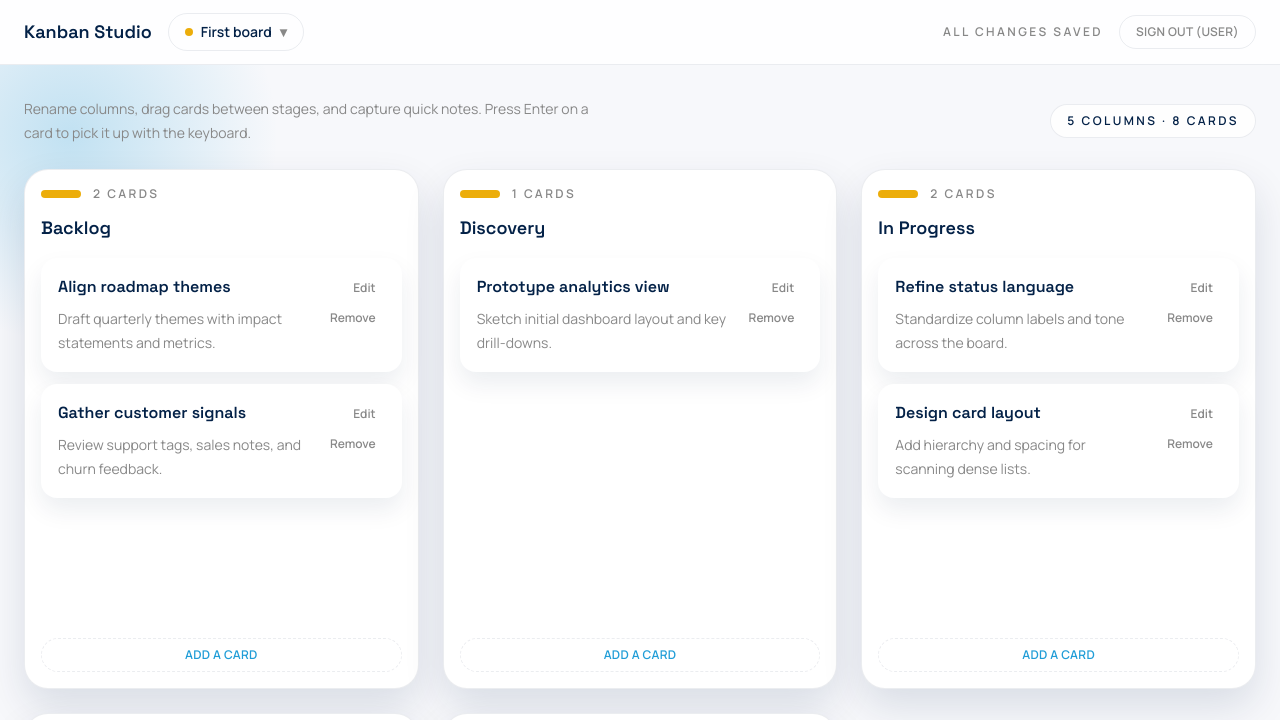
Test case: board persistence › adds a card and sends it in a PUT
The width and height of the screenshot is (1280, 720).
Expected: the heading "Kanban Studio" is shown, [24,18,152,46]
Click the 1st button "Add a card" at (221, 655), box [41,638,402,672]
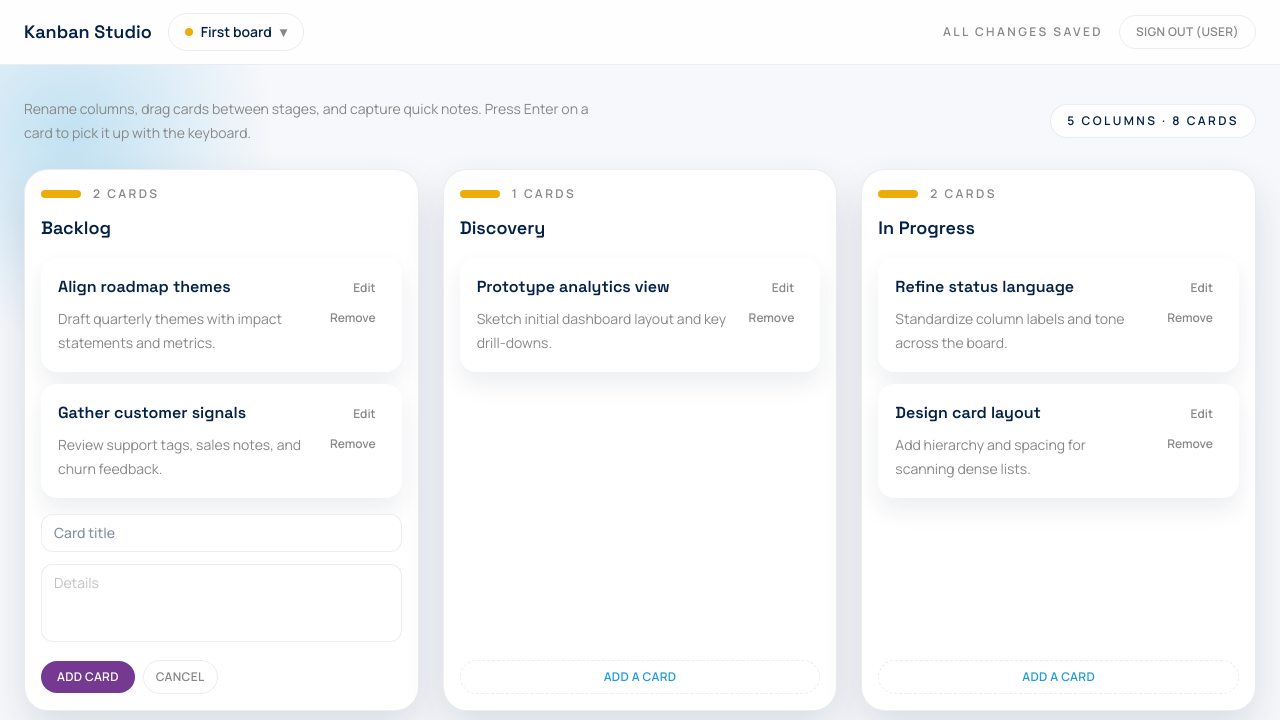
Type "Persisted card" into the field with placeholder "Card title" at (221, 533), box [41,514,402,552]
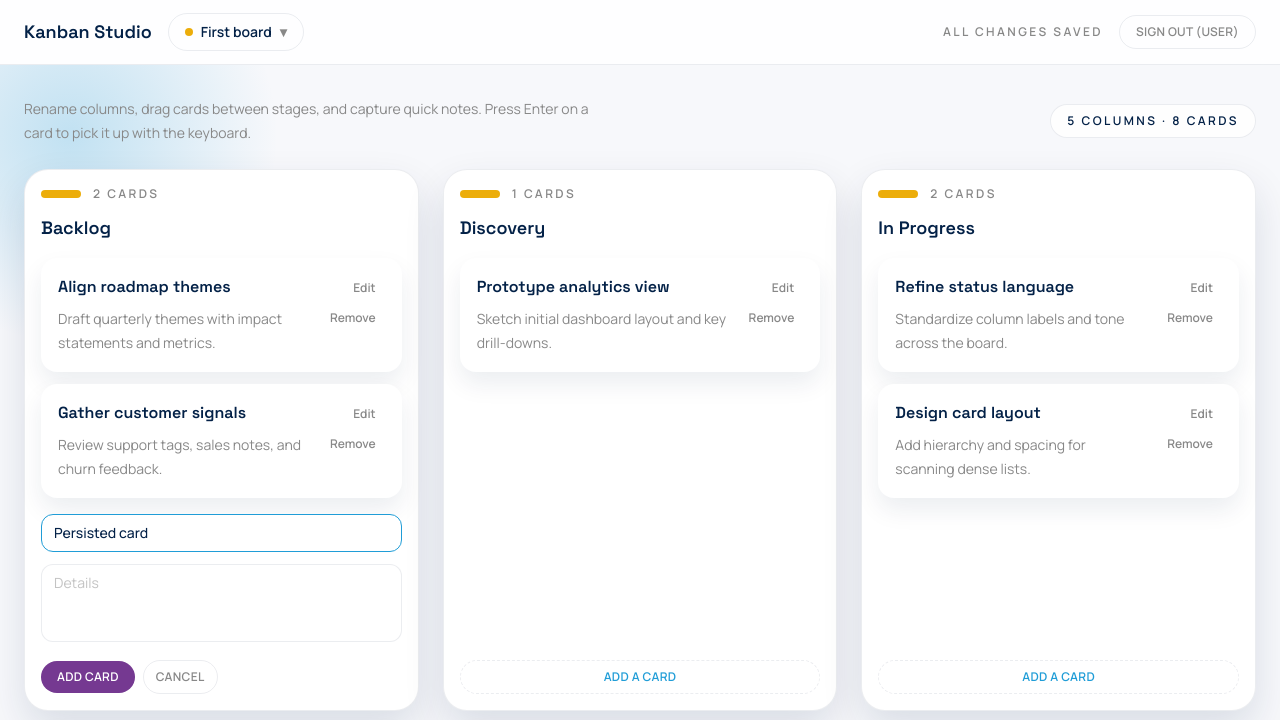
Type "notes" into the text box with placeholder "Details" at (221, 603), box [41,564,402,642]
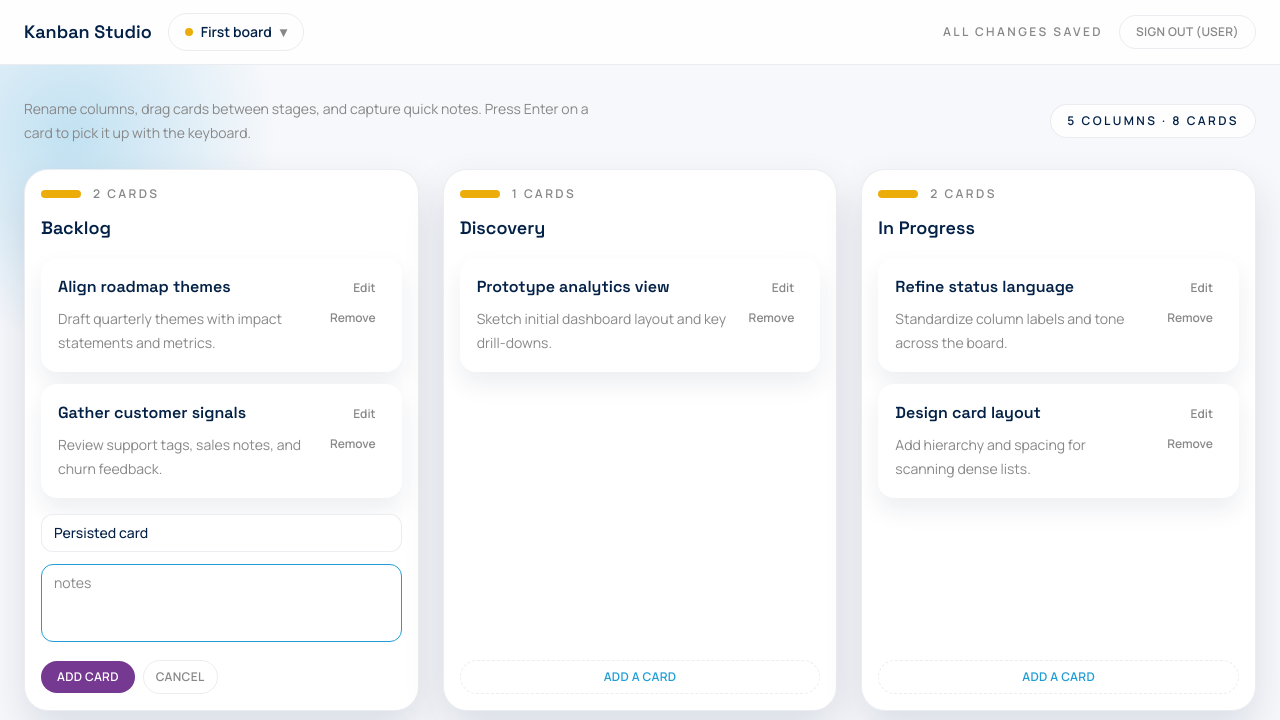
Click the button "Add card" at (88, 677), box [41,661,135,693]
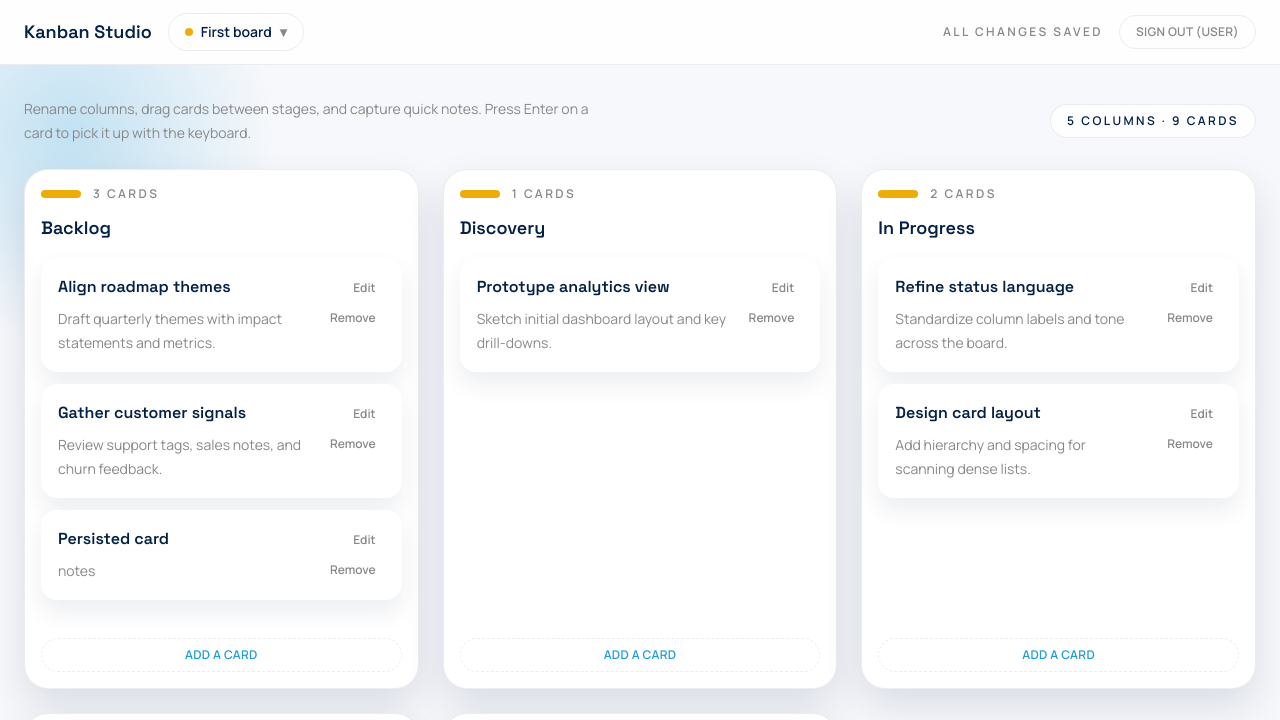
Expected: the heading "Persisted card" is shown, [58,527,169,551]
